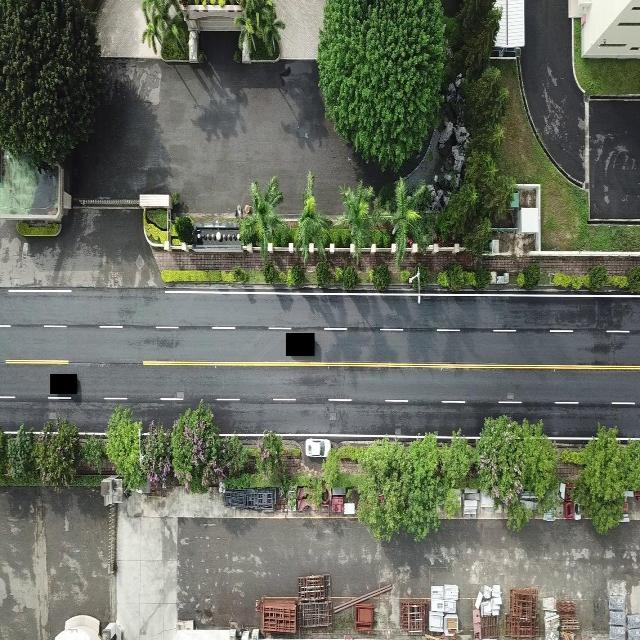car: (303, 432, 329, 463)
